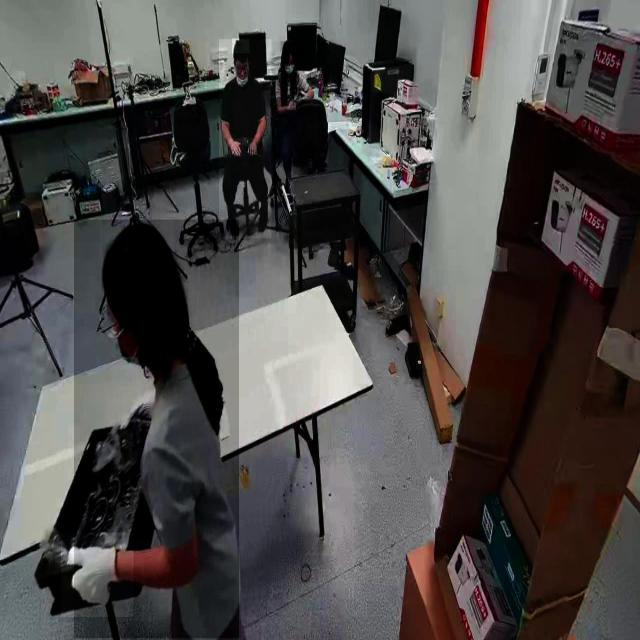hand_glove: (61, 532, 134, 618)
hand_noglove: (228, 138, 242, 156), (246, 137, 257, 156), (288, 99, 296, 111)
head_nohelmet: (100, 218, 174, 285), (232, 38, 250, 54), (280, 41, 296, 52)
person: (74, 220, 240, 639), (219, 39, 272, 239), (273, 42, 314, 184)
